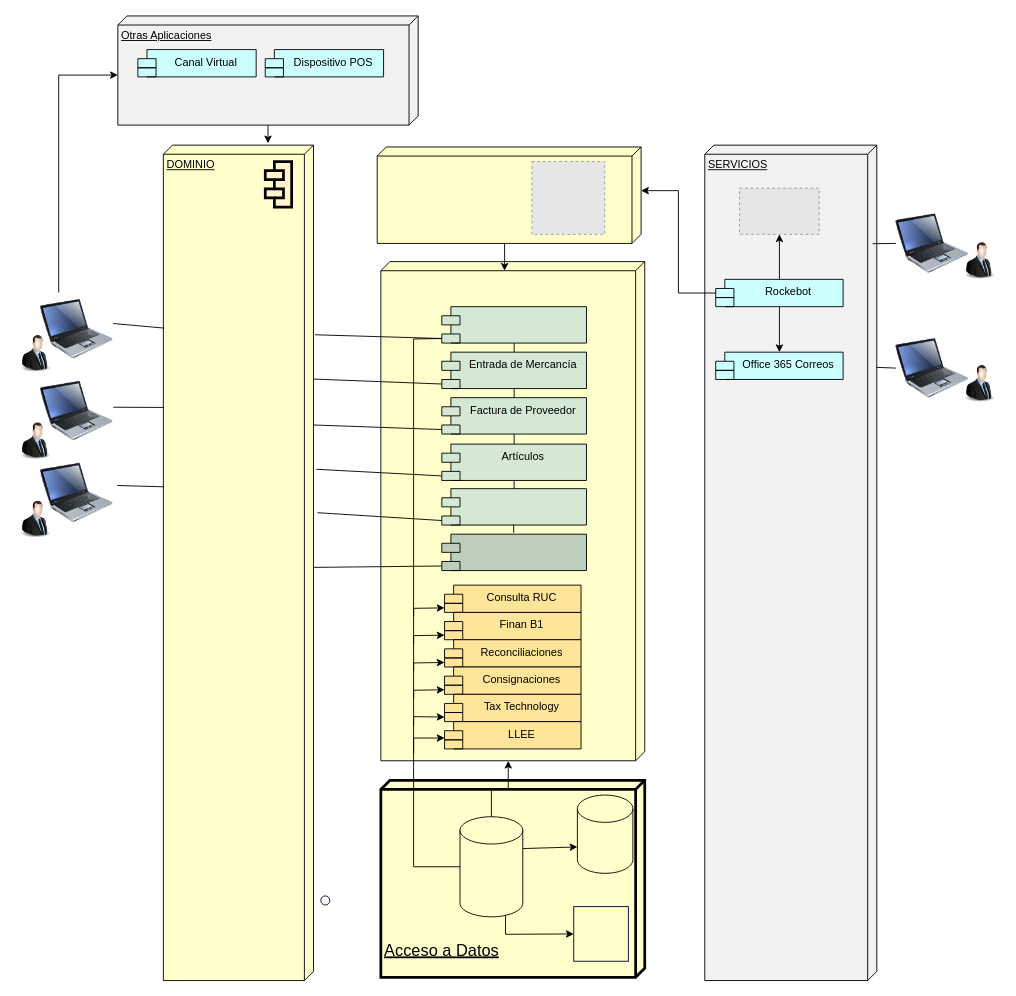
The diagram is 1016 pixels wide and 996 high, and some of its shapes have lost their labels. Grey dashed boxes stand in for pictures. The box of each missing label's shape, as (x1, y1, x2, y2) in pixels:
Asientos de diario: (441, 533, 586, 571)
Interfaz de Usuario: (376, 146, 641, 243)
Pagos Efectuados: (441, 488, 586, 525)
SAP HANA: (459, 816, 523, 917)
Servidor Aplicaciones: (380, 261, 645, 761)
Socio de Negocio: (441, 306, 586, 343)
SUSE LINUX: (576, 794, 633, 873)
XML CDR PDF: (573, 906, 628, 961)
